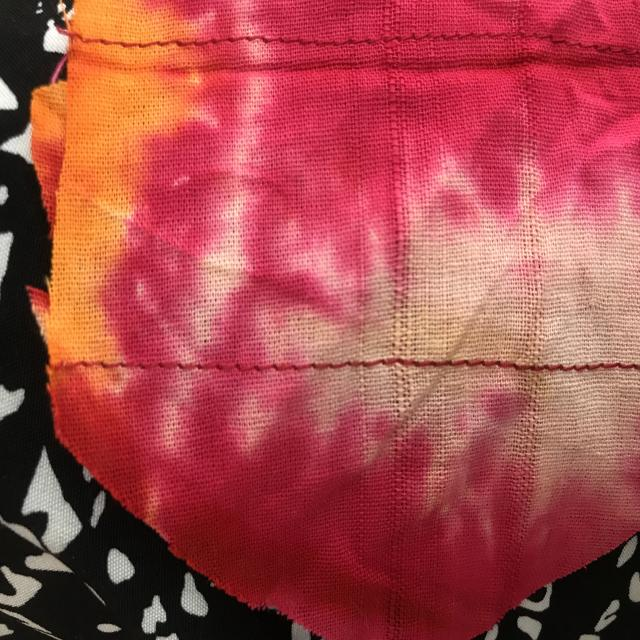good: (456, 345, 553, 386), (287, 353, 394, 378), (580, 355, 631, 379)
